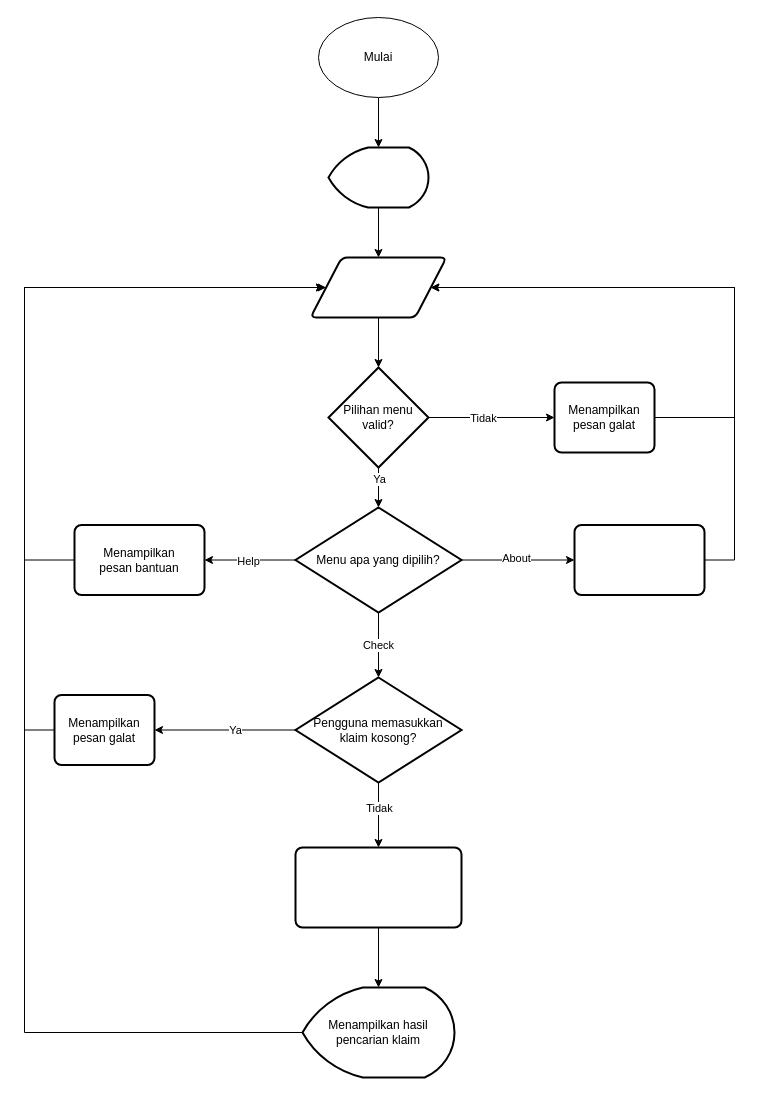
This 760x1096 diagram has some shape labels left out. The centre of each missing label's shape, as x and y in pixels:
"Masukan menu" goes at point 378,287.
"Menampilkan info tentang bot" goes at point 639,560.
"Mencari klaim masukan pengguna di Google Fact Checker" goes at point 378,887.
"Pesan selamat datang" goes at point 378,177.
